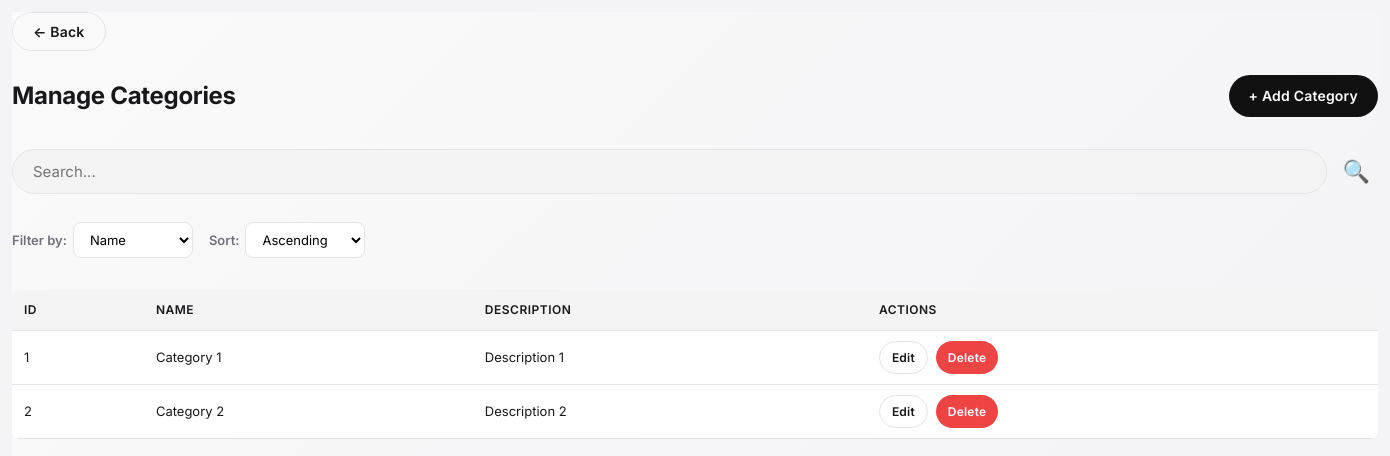
AdminCategories › Search › should filter categories by search term
Type "Category 1" into the field with placeholder "Search..." at (669, 172), box [12, 149, 1326, 194]
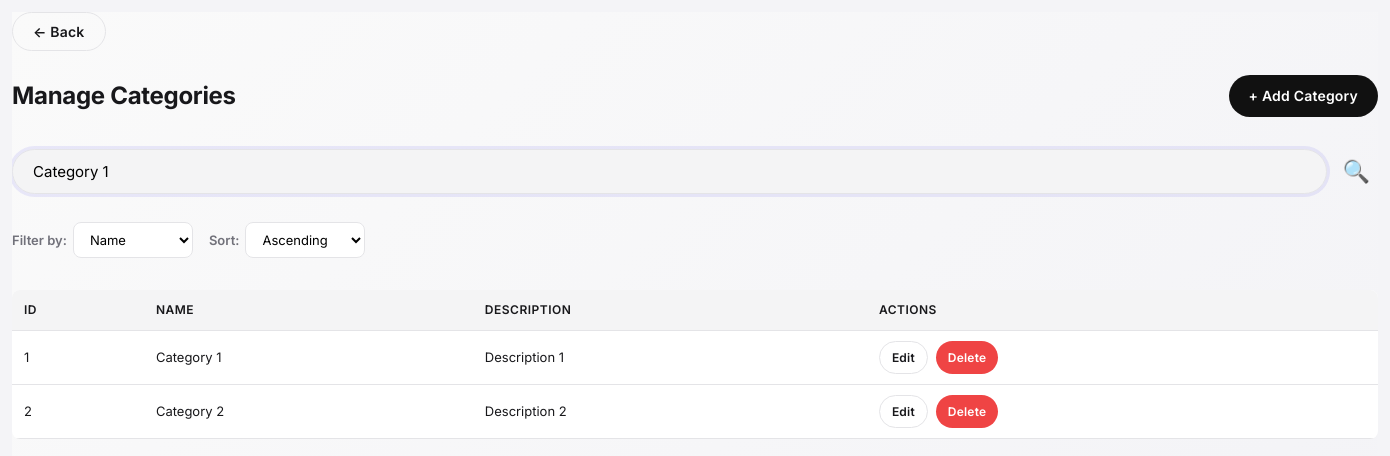
Click the button "🔍" at (1356, 172), box [1334, 149, 1378, 194]
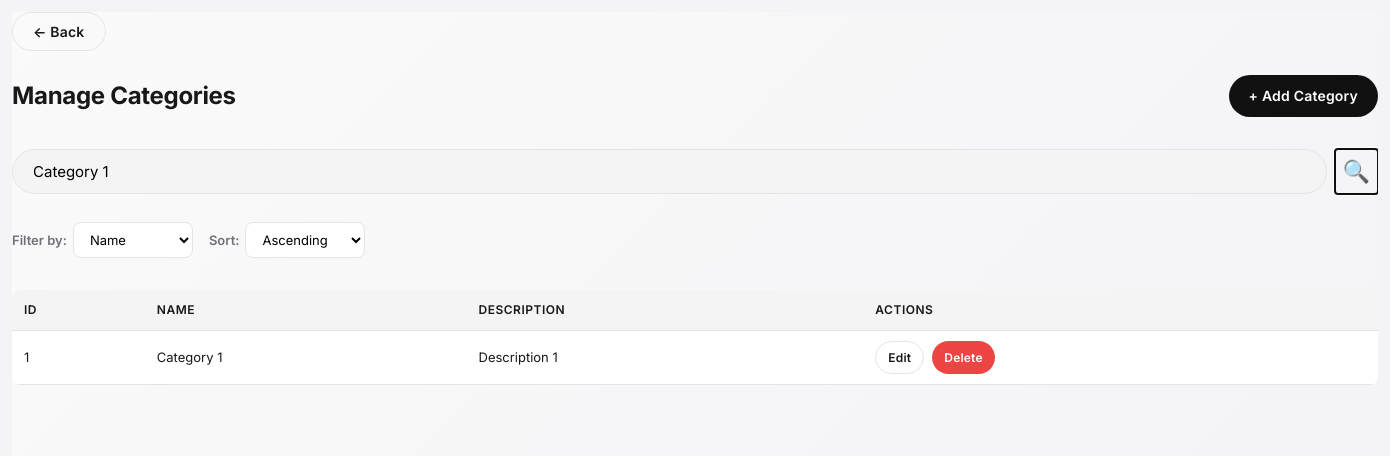
Expected: the link "Category 1" is shown, [157, 349, 222, 365]
Expected: the link "Category 2" is gone
